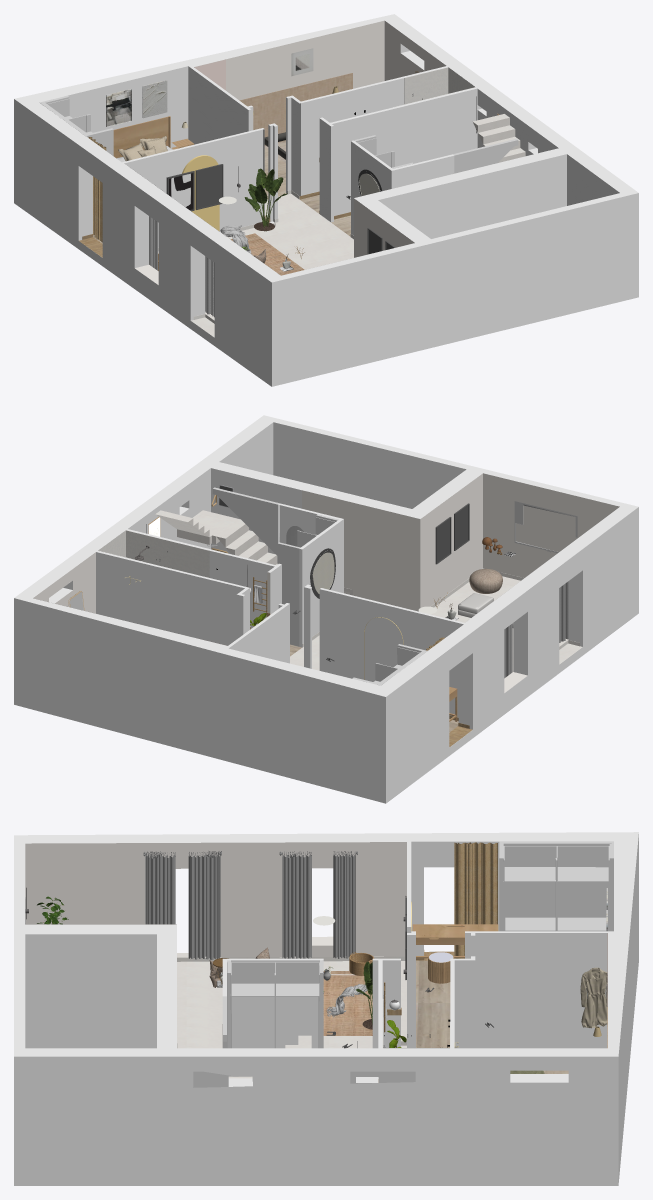
Rendered from burgos-floor-0-1.glb.
3 views of the same model, one above another, from view 1: azimuth 30°, elevation 25°; view 2: azimuth 150°, elevation 25°; view 3: azimuth 270°, elevation 25° (orthographic). The views are drawn at different scales.
Visible parts, largest first — view 1: 3DGeom-3, 3DGeom-13465, 3DGeom-3964, 3DGeom-12671, 3DGeom-13385, 3DGeom-12192, 3DGeom-13202, 3DGeom-113.001, 3DGeom-1882, 3DGeom-13469, 3DGeom-9.001, 3DGeom-12145 (+7 smaller); view 2: 3DGeom-3, 3DGeom-13465, 3DGeom-3964, 3DGeom-12671, 3DGeom-13202, 3DGeom-12192, 3DGeom-1882, 3DGeom-1802, 3DGeom-12432, 3DGeom-12207; view 3: 3DGeom-3, 3DGeom-13465, 3DGeom-12671, 3DGeom-1882, 3DGeom-3964, 3DGeom-48.024, 3DGeom-13469, 3DGeom-12145, 3DGeom-113.001, 3DGeom-1110.001.
Part boxes in pixels (x1,y1,x2,y2): 3DGeom-3: (14,14,638,386); 3DGeom-13465: (135,20,468,284); 3DGeom-3964: (158,114,525,337); 3DGeom-12671: (39,95,518,173); 3DGeom-13385: (239,73,352,145); 3DGeom-12192: (166,164,395,254); 3DGeom-13202: (393,67,475,107); 3DGeom-113.001: (113,116,194,158); 3DGeom-1882: (149,216,214,317); 3DGeom-13469: (93,141,350,243); 3DGeom-9.001: (106,80,166,126); 3DGeom-12145: (231,233,304,275); 3DGeom-3: (14,415,638,803); 3DGeom-13465: (33,473,619,692); 3DGeom-3964: (155,510,582,671); 3DGeom-12671: (69,487,515,685); 3DGeom-13202: (98,530,209,577); 3DGeom-12192: (219,485,469,661); 3DGeom-1882: (504,581,568,678); 3DGeom-1802: (469,568,502,593); 3DGeom-12432: (312,552,334,593); 3DGeom-12207: (458,593,513,627); 3DGeom-3: (14,832,638,1185); 3DGeom-13465: (25,842,406,957); 3DGeom-12671: (193,841,613,1087); 3DGeom-1882: (145,854,355,959); 3DGeom-3964: (177,953,406,1078); 3DGeom-48.024: (454,842,497,958); 3DGeom-13469: (378,960,568,1082); 3DGeom-12145: (323,971,372,1035); 3DGeom-113.001: (412,924,498,983); 3DGeom-1110.001: (580,967,607,1028).
Bounding box in the file's own units: 9.29 × 2.51 × 10.92.
Materials: 138 (92 with a texture image).
